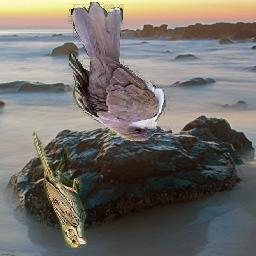Cuckoo: (68, 3, 173, 142)
Sparrow: (33, 130, 88, 248)
